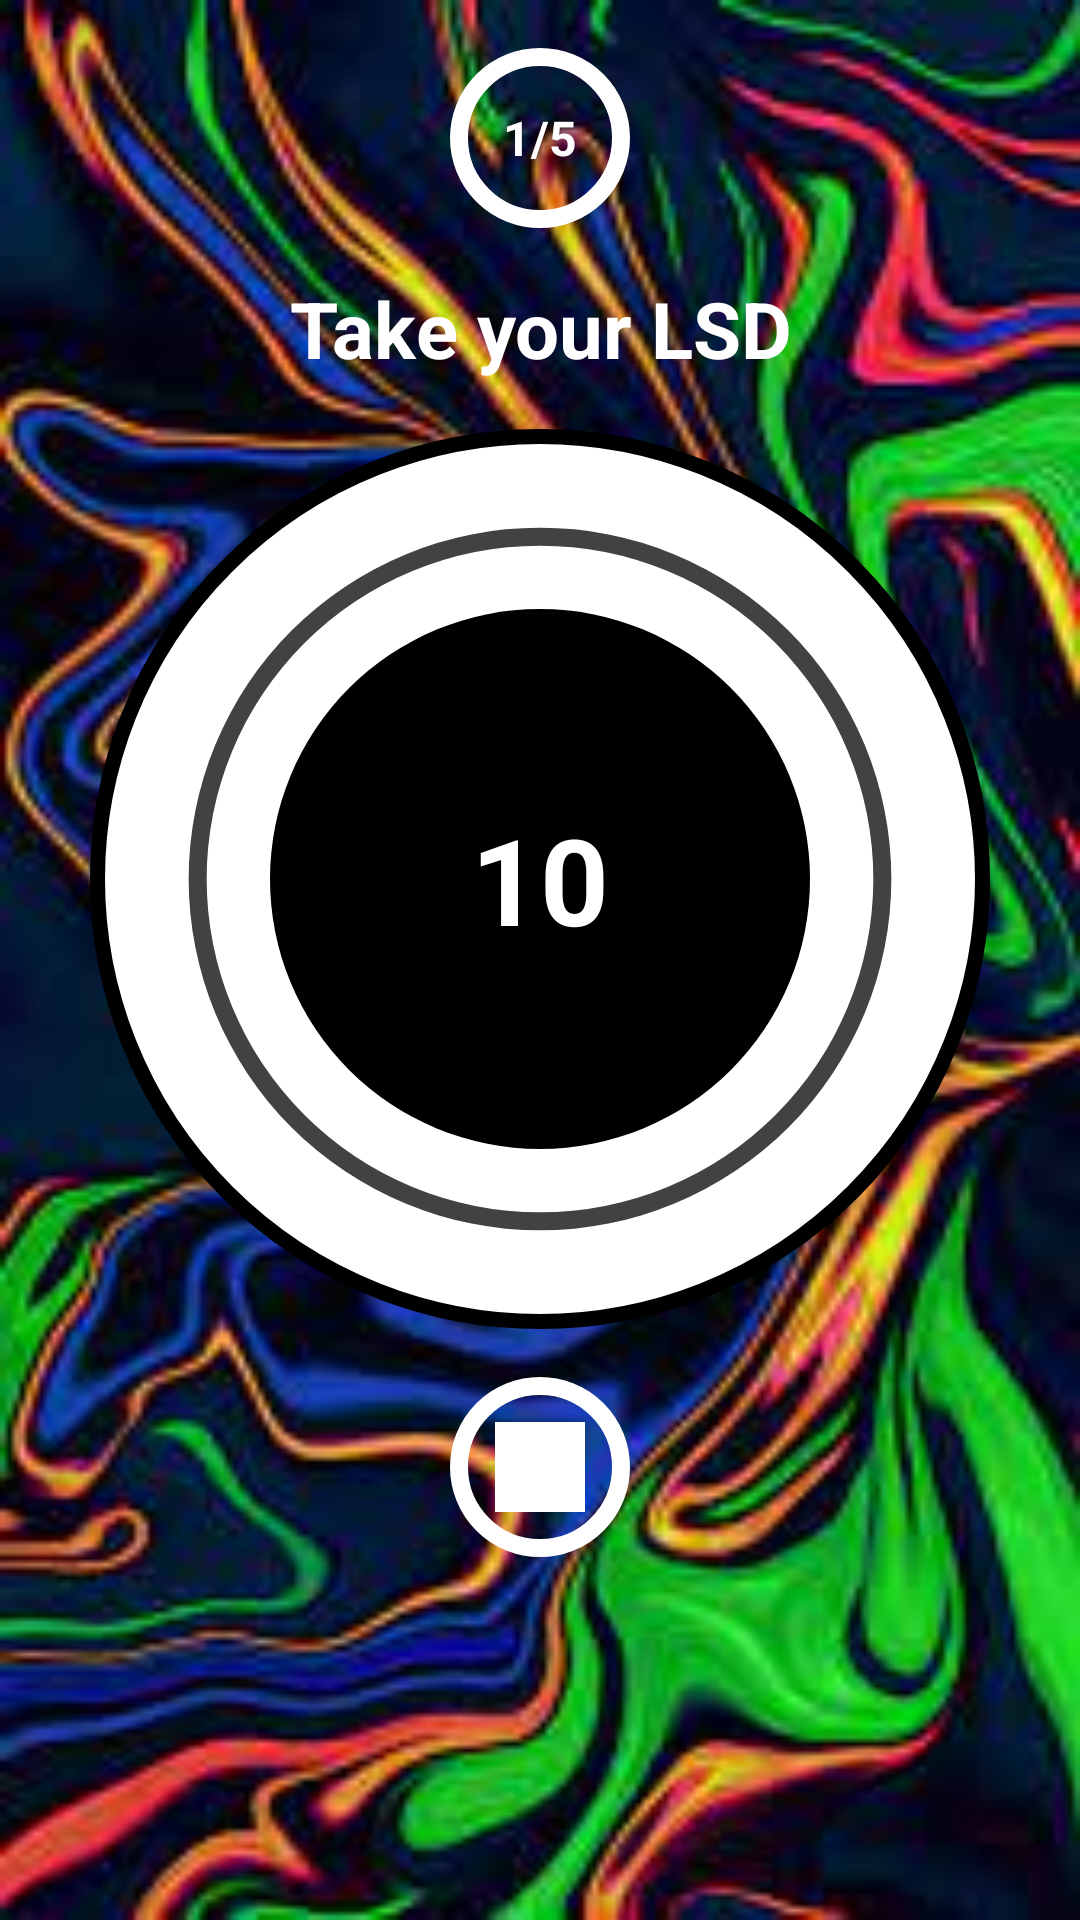

Where to tap for icons on this 1080w x 1920h app screen, as (x,y):
stop: (540,1467)
